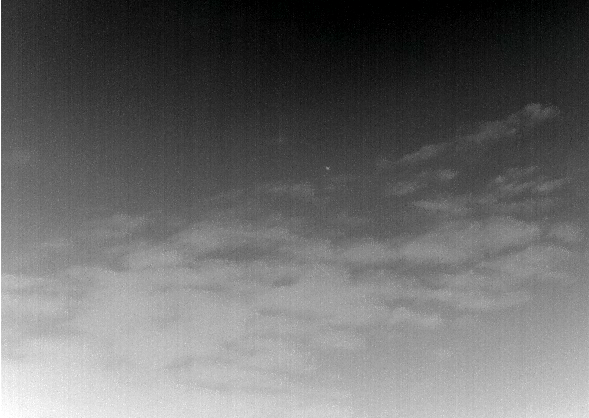dim target: (325, 165, 331, 171)
